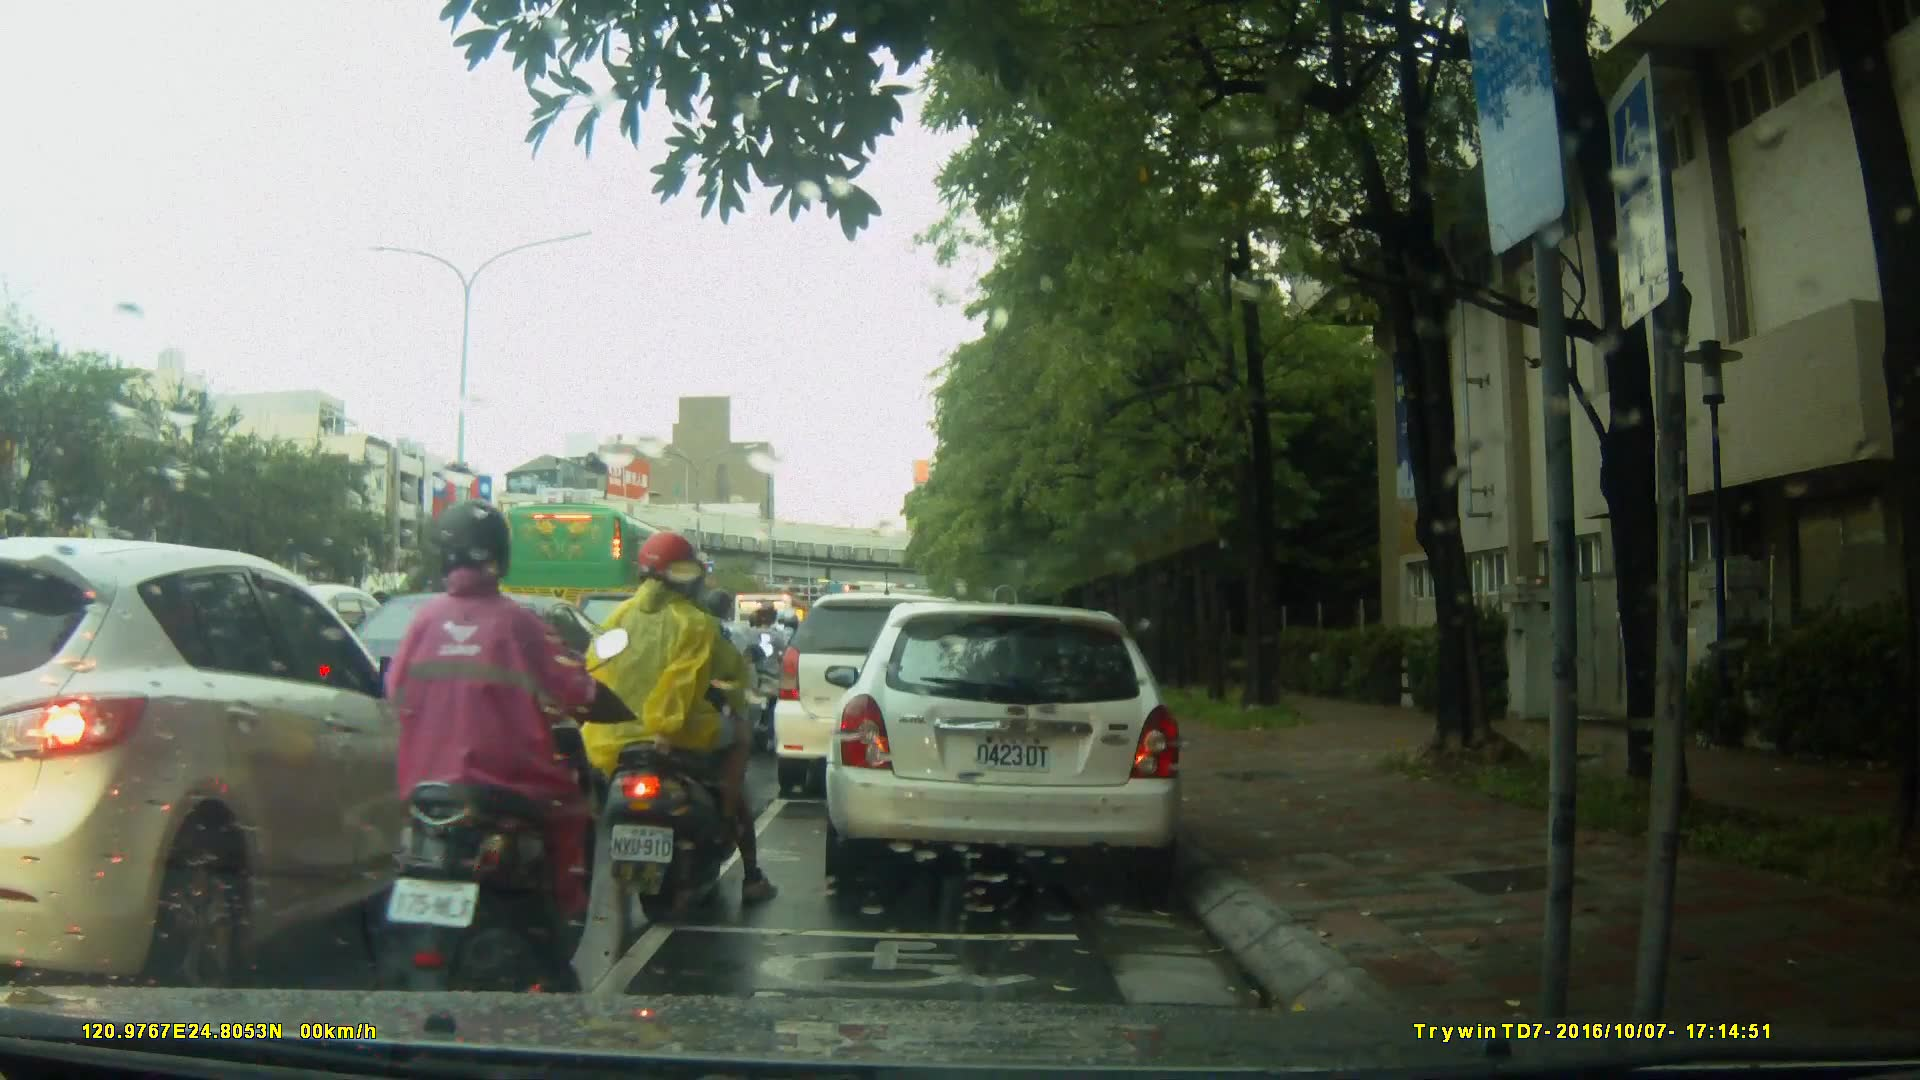rider: (363, 501, 592, 1020), (579, 531, 773, 914), (691, 589, 773, 780), (739, 601, 799, 740)
vehicle: (4, 536, 466, 988), (831, 592, 1196, 897), (318, 589, 629, 776), (770, 590, 999, 804), (495, 499, 710, 636)
